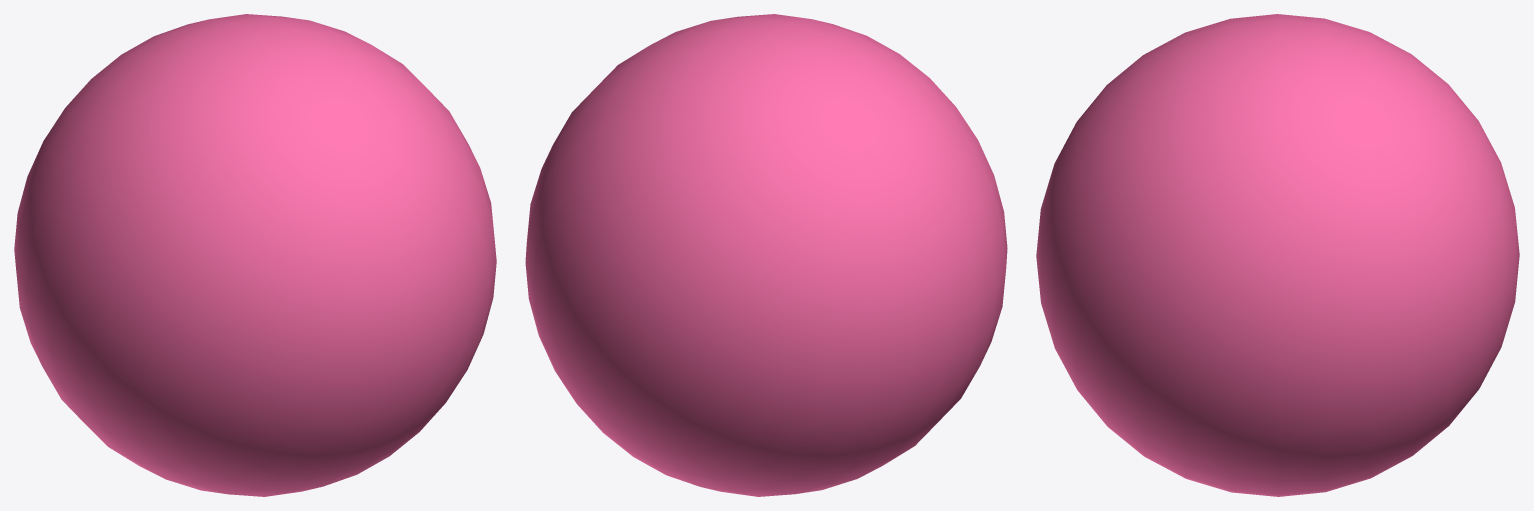
3 renders of one model, left to right at view 1: azimuth 30°, elevation 25°; view 2: azimuth 150°, elevation 25°; view 3: azimuth 270°, elevation 25°, orthographic.
Visible parts, largest first — view 1: Sphere_2; view 2: Sphere_2; view 3: Sphere_2.
Boxes of the visible parts, x1,y1,x2,y2 form: Sphere_2: (14,14,496,496); Sphere_2: (525,14,1007,496); Sphere_2: (1036,14,1519,496).
Size of the model in its own units: 2.32 by 2.32 by 2.32.
